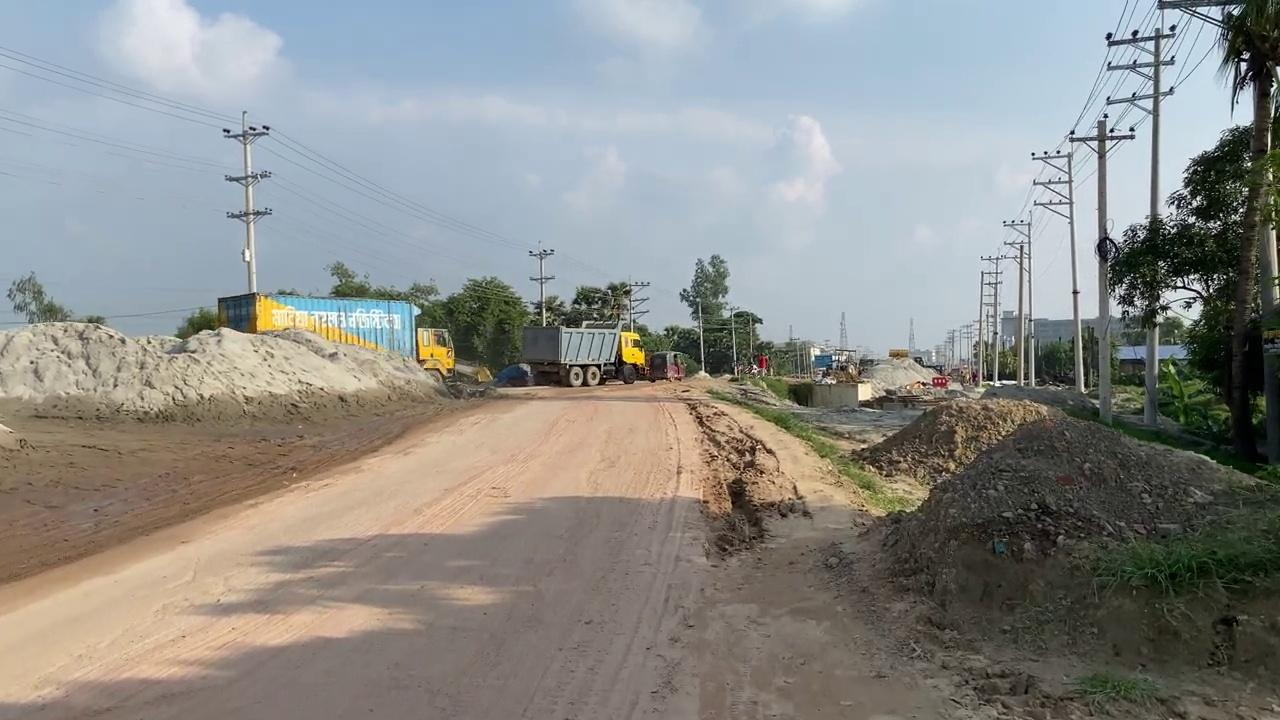Fence: (217, 291, 418, 359)
Garbage: (876, 373, 1279, 664)
Obstacle: (787, 378, 871, 408)
Pole: (1104, 26, 1176, 427), (222, 109, 271, 293)
Rickshaw: (650, 358, 883, 713)
Traffic-sign: (1105, 121, 1279, 460), (678, 253, 730, 372)
Tree: (518, 319, 647, 386), (415, 326, 494, 399), (579, 319, 647, 381), (812, 311, 863, 381), (415, 326, 455, 383), (812, 348, 861, 381), (647, 350, 684, 382)
